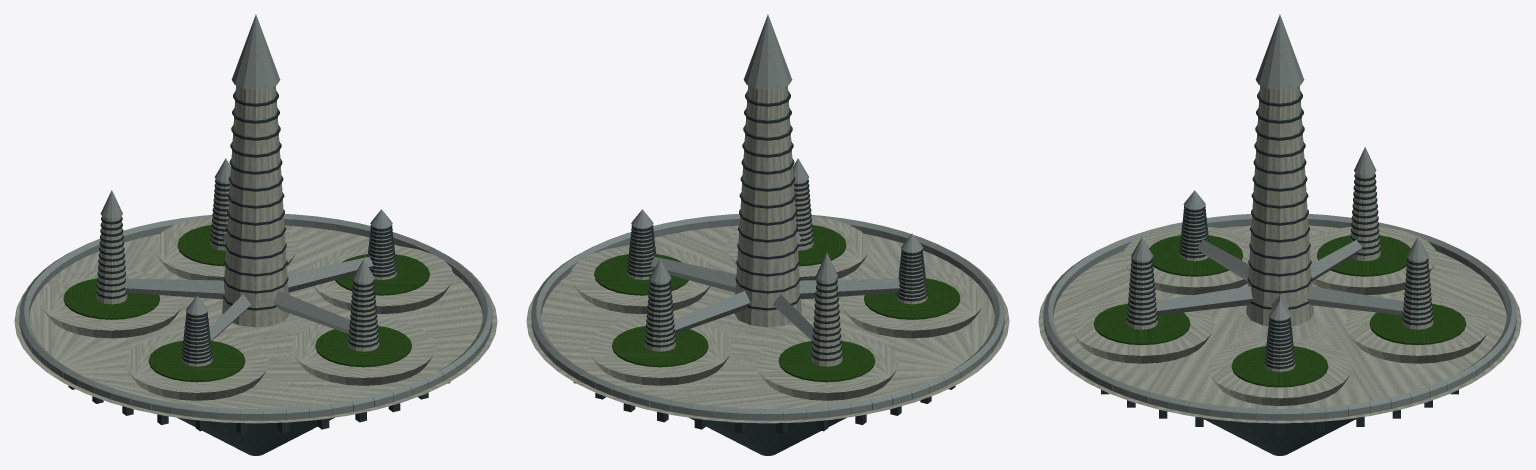
File: palace_needle_01.fbx
The picture shows the model from 3 angles, left to right: view 1: azimuth 30°, elevation 25°; view 2: azimuth 150°, elevation 25°; view 3: azimuth 270°, elevation 25°; orthographic projection.
Parts seen in each view (by area): view 1: palace_needle_01_LOD0; view 2: palace_needle_01_LOD0; view 3: palace_needle_01_LOD0.
Boxes of the visible parts, left/top/right/bottom form: palace_needle_01_LOD0: left=14, top=14, right=497, bottom=455; palace_needle_01_LOD0: left=526, top=14, right=1009, bottom=455; palace_needle_01_LOD0: left=1038, top=14, right=1521, bottom=455.
Size of what is drawn, in the model's own units: 1 by 1 by 1.
